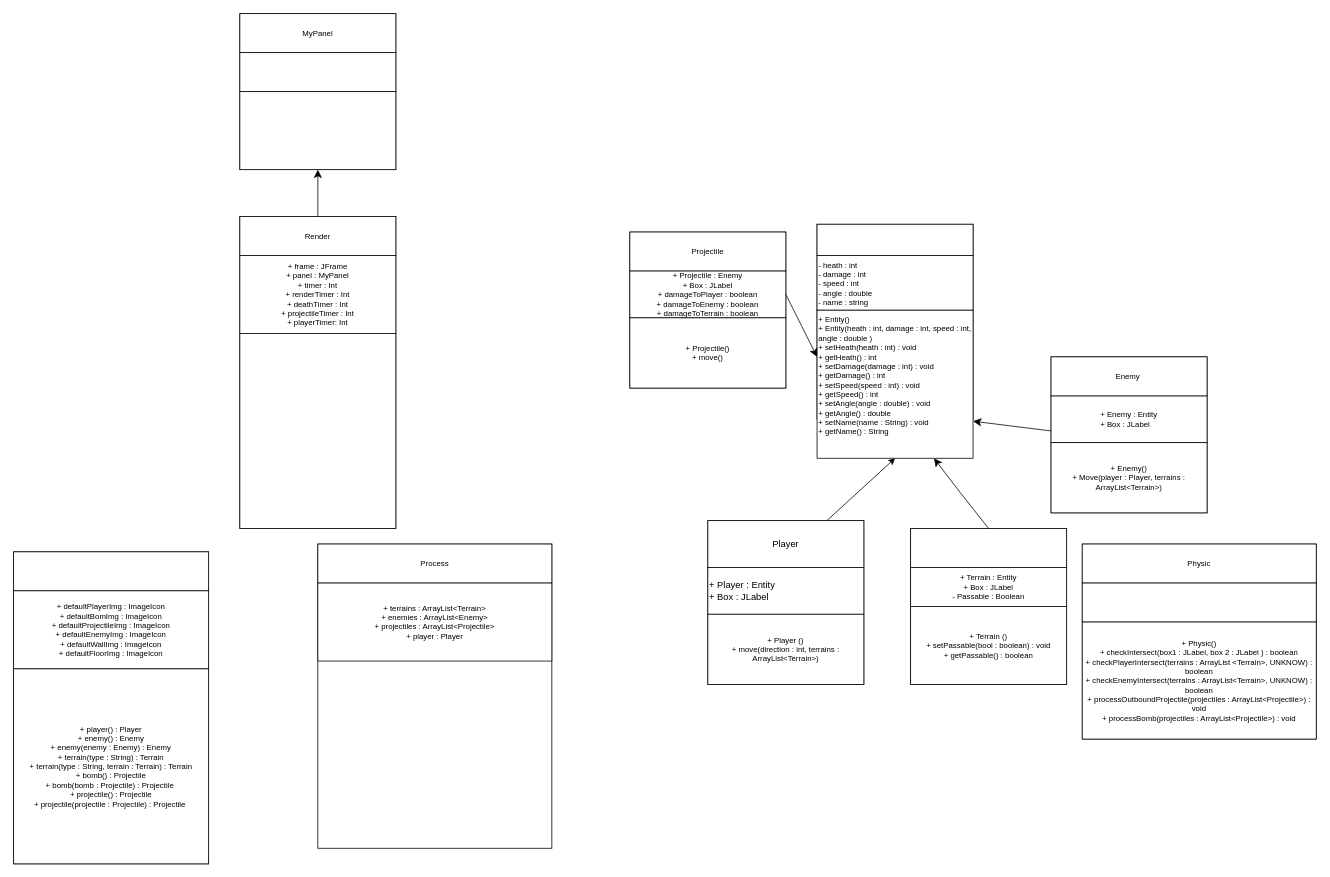
The diagram is 1330 pixels wide and 877 high, and some of its shapes have lost their labels. The box of each missing label's shape, as (x1, y1, x2, y2) in pixels:
+ MyPanel() @Override + paint(Graphic g) : void: (239, 91, 396, 170)
+ Render() @Override: (239, 333, 396, 528)
Entity: (816, 223, 973, 255)
Generator: (13, 551, 209, 591)
Terrain: (910, 528, 1067, 567)
